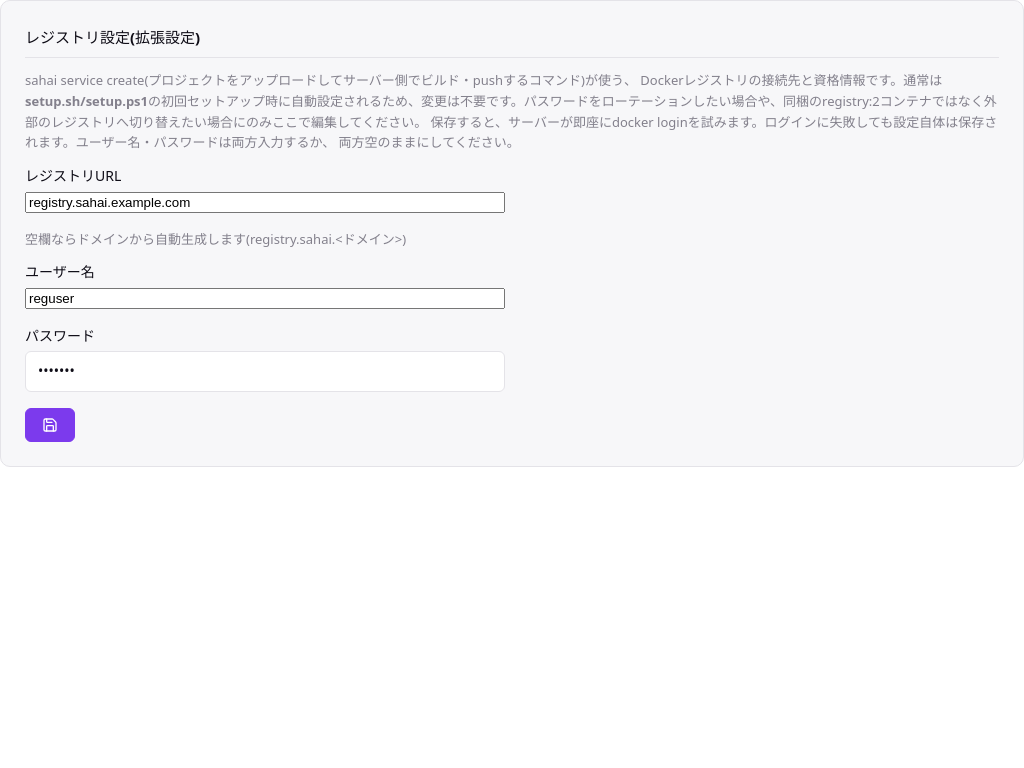
Scenario: RegistryConfigSection › 保存レスポンスにlogin_warningが含まれる場合は警告メッセージを表示する
Expected: the field labelled "レジストリURL" is shown, top-left (25, 192), bottom-right (505, 213)
Click the button named "レジストリ設定を保存".
click(50, 424)  # box top-left (25, 408), bottom-right (75, 442)
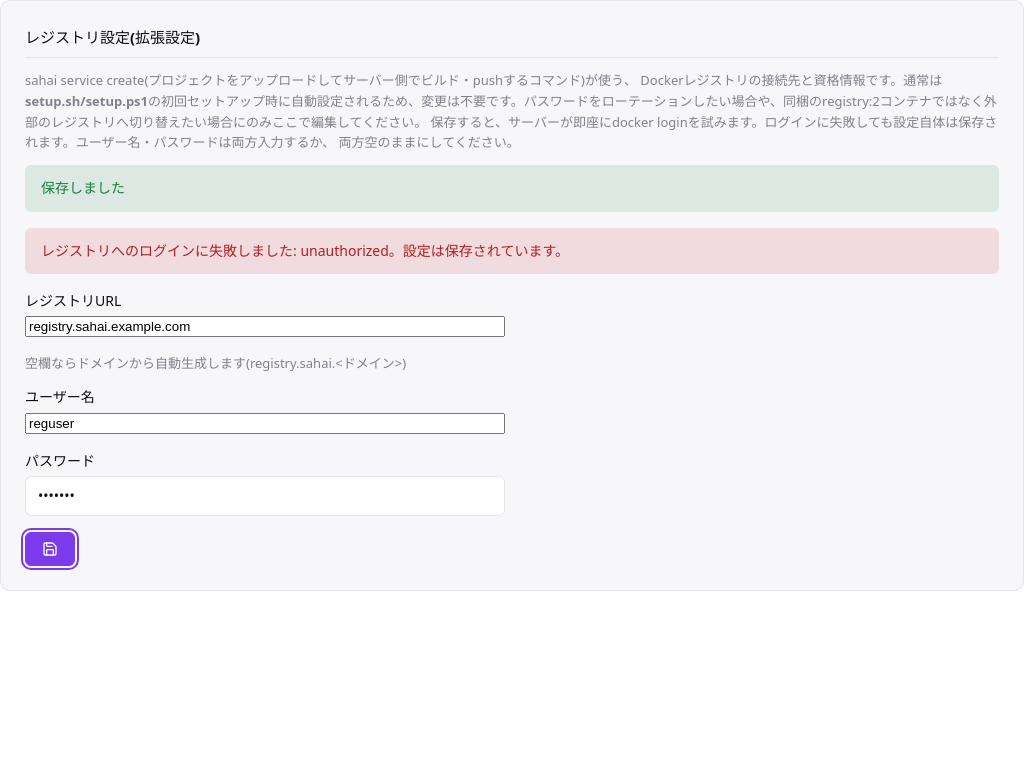
Expected: the text "レジストリへのログインに失敗しました: unauthorized。設定は保存されています。" is shown, top-left (25, 228), bottom-right (999, 274)
Expected: the text "保存しました" is shown, top-left (25, 165), bottom-right (999, 212)
